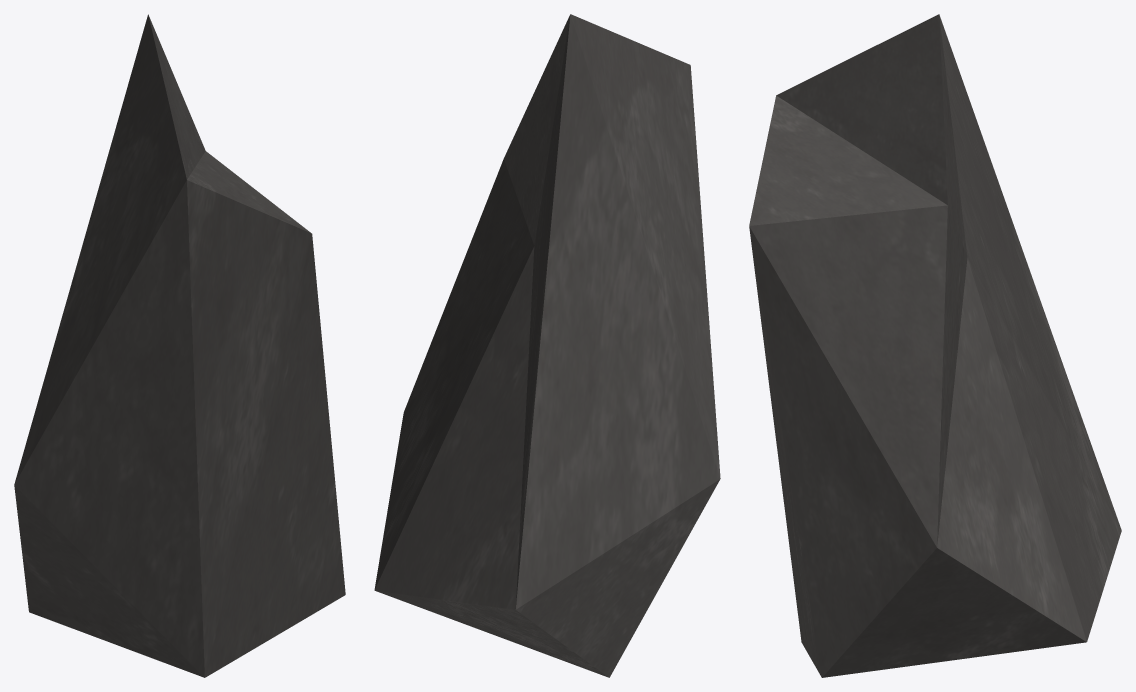
The model's file is Rock door.fbx.
3 renders of one model, left to right at view 1: azimuth 30°, elevation 25°; view 2: azimuth 150°, elevation 25°; view 3: azimuth 270°, elevation 25°, orthographic. The views are drawn at different scales.
Parts seen in each view (by area): view 1: Icosphere; view 2: Icosphere; view 3: Icosphere.
Part boxes in pixels (x1,y1,x2,y2): Icosphere: (14, 14, 345, 677); Icosphere: (374, 14, 720, 677); Icosphere: (749, 14, 1121, 677).
Bounding box in the file's own units: 695 × 1324 × 706.
